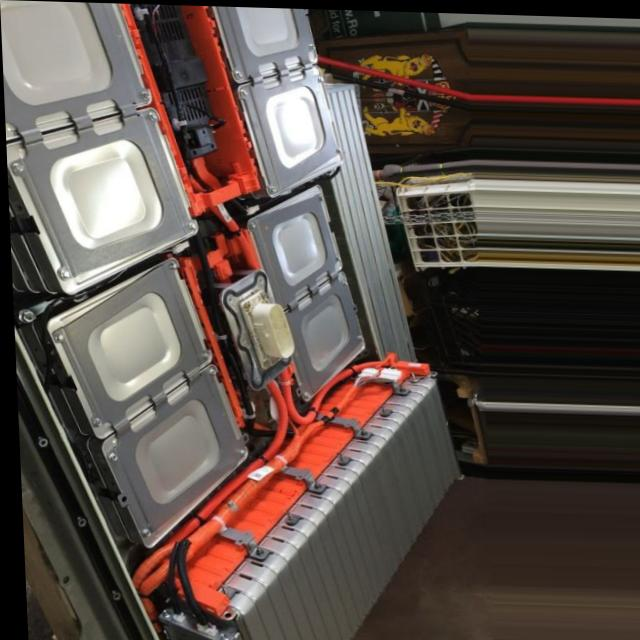Battery Module: (241, 396, 450, 640), (37, 134, 184, 257), (71, 280, 196, 408), (121, 388, 231, 514), (1, 10, 134, 114), (256, 81, 332, 176), (261, 205, 331, 292), (293, 285, 355, 380), (228, 9, 305, 66)
Bolt: (6, 160, 34, 180), (98, 446, 121, 466), (47, 266, 73, 282), (82, 414, 105, 430), (237, 218, 263, 232), (136, 522, 152, 541), (265, 177, 281, 195), (327, 251, 346, 266), (161, 259, 181, 273), (136, 89, 157, 101), (48, 331, 66, 345), (200, 364, 222, 375), (235, 85, 254, 97), (334, 140, 348, 156), (141, 108, 158, 121), (295, 385, 312, 398), (182, 218, 200, 230), (311, 73, 330, 84), (229, 67, 246, 79), (232, 443, 247, 455), (333, 272, 346, 284), (351, 330, 366, 340), (304, 40, 319, 50), (198, 350, 211, 361), (315, 193, 330, 201)
Bus-bar: (178, 10, 266, 217), (187, 258, 249, 429)
Cable: (163, 357, 396, 571)
Nut: (272, 505, 301, 524), (11, 308, 38, 325), (245, 543, 269, 558), (330, 452, 349, 469), (388, 379, 408, 394), (302, 478, 324, 490), (375, 402, 393, 416), (356, 426, 371, 441), (401, 371, 421, 381)
